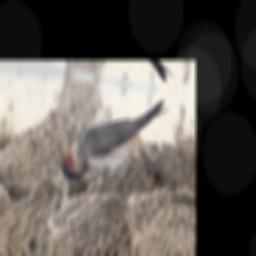Swallow: (51, 81, 174, 196)
